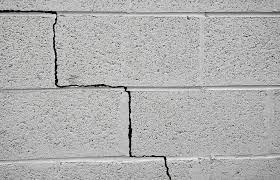stairstep_crack: (0, 7, 171, 179)
